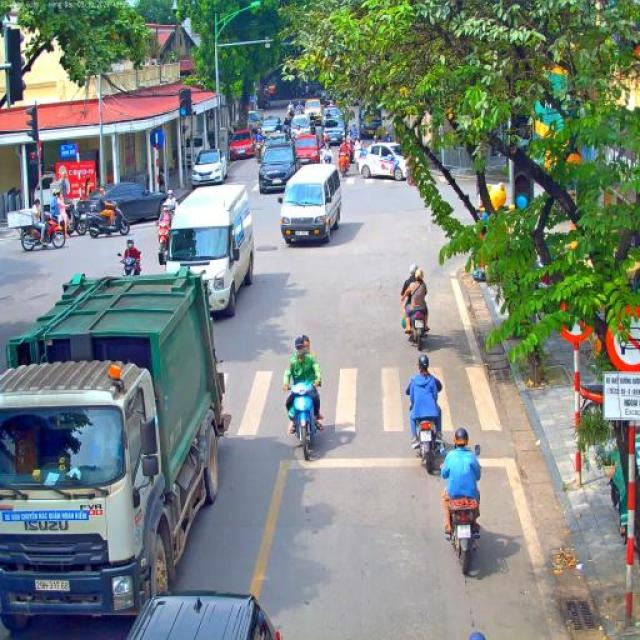bus: (162, 182, 254, 318), (278, 162, 343, 246)
car: (127, 590, 282, 640), (74, 182, 167, 227), (258, 142, 301, 194), (356, 142, 409, 182), (191, 148, 229, 187), (228, 129, 256, 162), (294, 135, 322, 167), (322, 120, 347, 148), (290, 114, 312, 142), (303, 98, 323, 127), (262, 135, 292, 151), (259, 117, 282, 137), (248, 109, 263, 132), (323, 108, 341, 124)
motorcycle: (442, 446, 482, 576), (283, 378, 319, 461), (22, 214, 66, 251), (86, 204, 130, 240), (46, 200, 86, 235), (155, 206, 175, 266), (403, 306, 429, 352), (118, 252, 142, 277), (339, 151, 351, 178), (252, 140, 264, 164), (352, 147, 362, 165), (280, 126, 290, 144), (321, 154, 333, 166), (348, 134, 357, 150), (286, 112, 295, 126)
truck: (0, 265, 232, 634), (358, 100, 383, 140)
